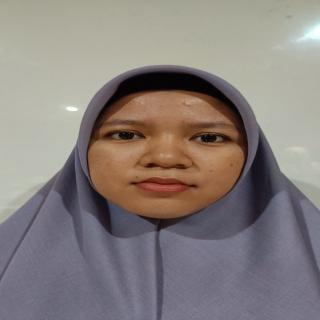Netral: (85, 79, 243, 228)
